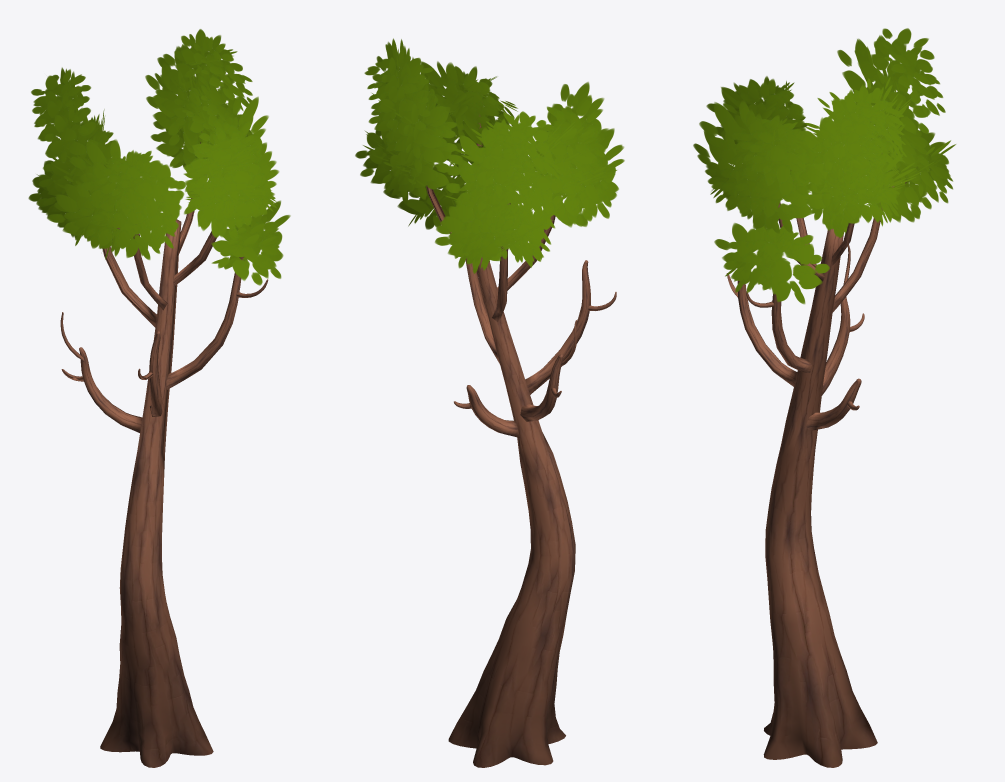
The model's file is fruit-tree-apple.glb.
3 views of the same model, side by side, from view 1: azimuth 30°, elevation 25°; view 2: azimuth 150°, elevation 25°; view 3: azimuth 270°, elevation 25° (orthographic). The views are drawn at different scales.
Parts seen in each view (by area): view 1: CommonTree_4; view 2: CommonTree_4; view 3: CommonTree_4.
Boxes of the visible parts, bbox=[...] form: CommonTree_4: bbox=[28, 29, 290, 767]; CommonTree_4: bbox=[355, 38, 624, 767]; CommonTree_4: bbox=[693, 28, 955, 767].
Bounding box in the file's own units: 3.83 × 9.44 × 3.76.
2 materials, 2 textured.
